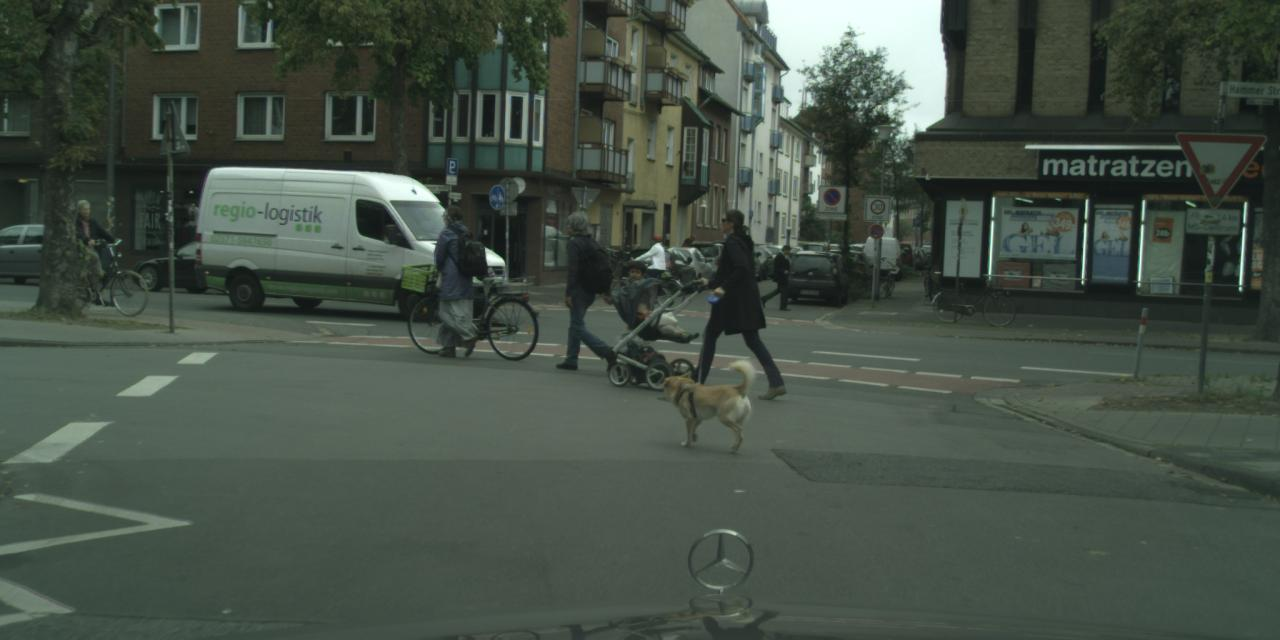ped: (696, 209, 772, 395), (553, 211, 617, 367), (426, 205, 487, 353), (68, 199, 109, 301), (767, 244, 792, 307), (637, 234, 662, 297), (681, 234, 695, 270)
